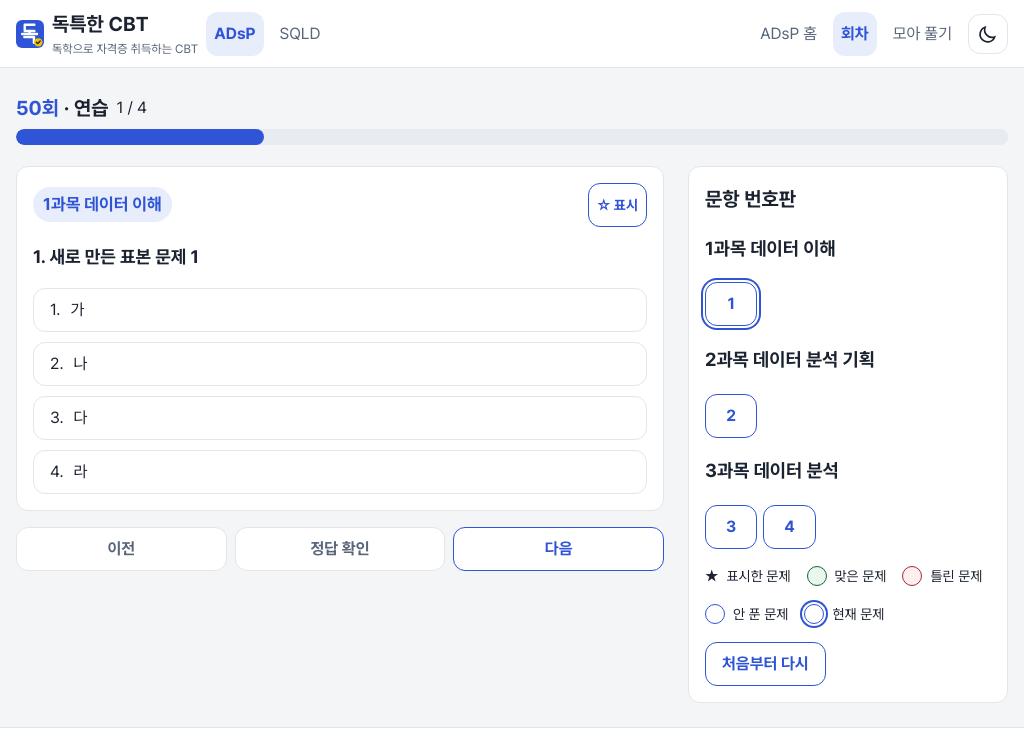
Test: practice heading links only the round name to its information
Expected: the heading "50회 · 연습" is shown, 16,92 -> 108,124
Click the link "50회": point(29, 108) 16,96 -> 59,120
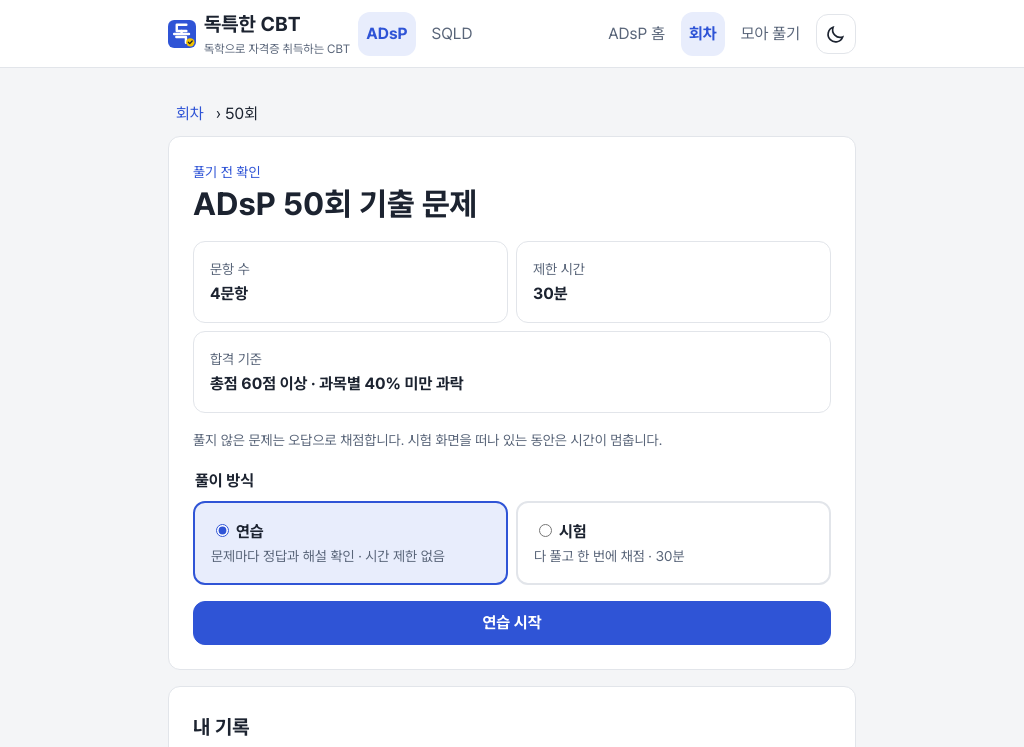
Expected: the heading "ADsP 50회 기출 문제" is shown, 193,185 -> 477,223
